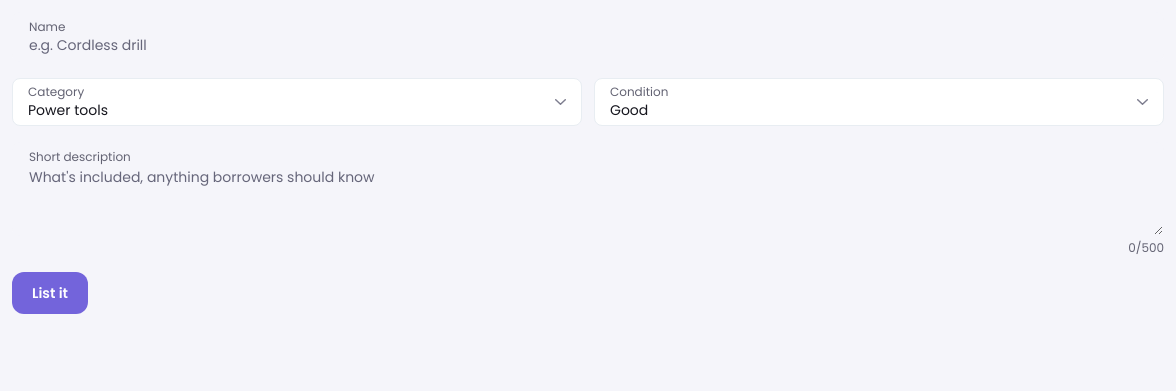
ToolForm › server errors are shown
Type "Ladder" into the field labelled "Name" at {"x": 588, "y": 37}, box [13,13,1163,61]
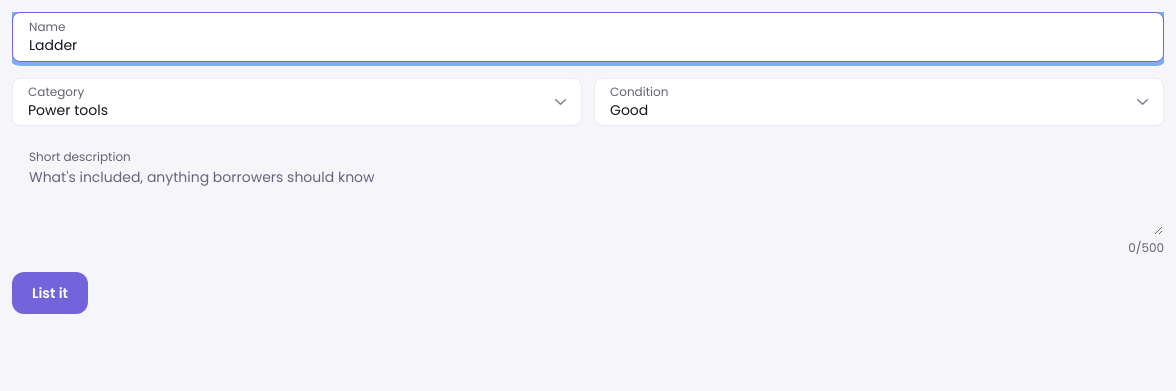
Click the button "List it" at {"x": 50, "y": 293}, box [12,272,88,314]
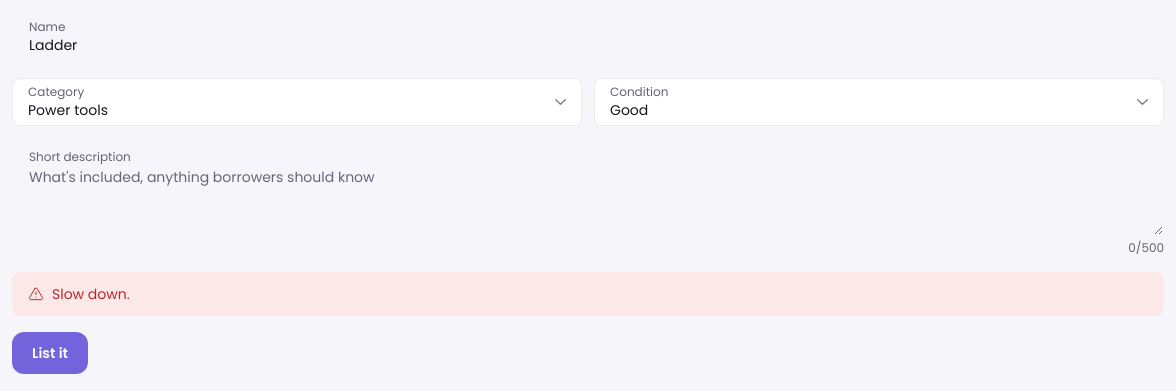
Now the message reads "Slow down.", box [52,284,130,304]
